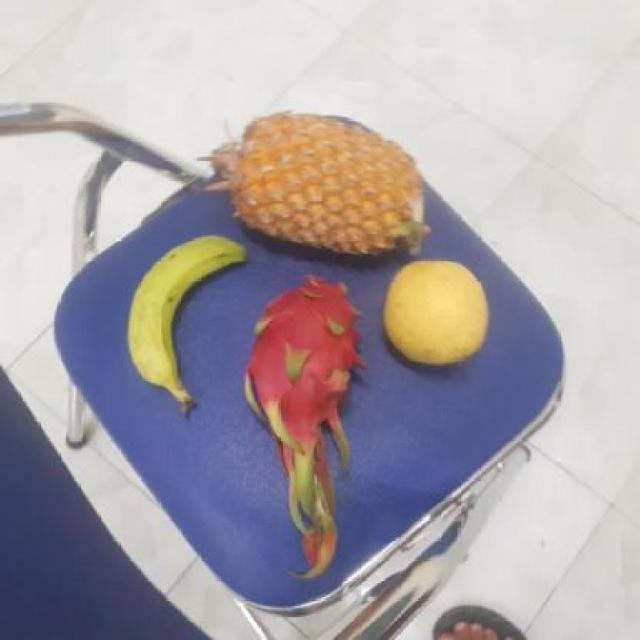banana: (126, 236, 252, 387)
dragon fruit: (244, 276, 365, 436)
pineapple: (223, 114, 429, 264)
